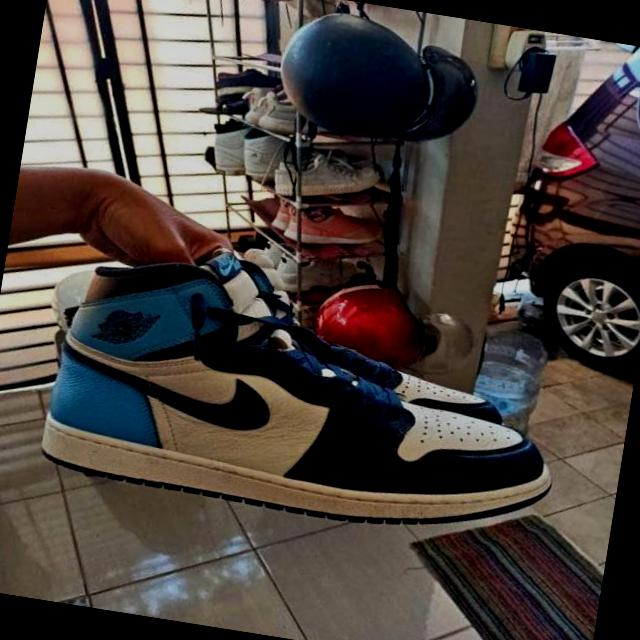nike_original_jordan: (29, 246, 590, 558), (168, 244, 530, 441)
